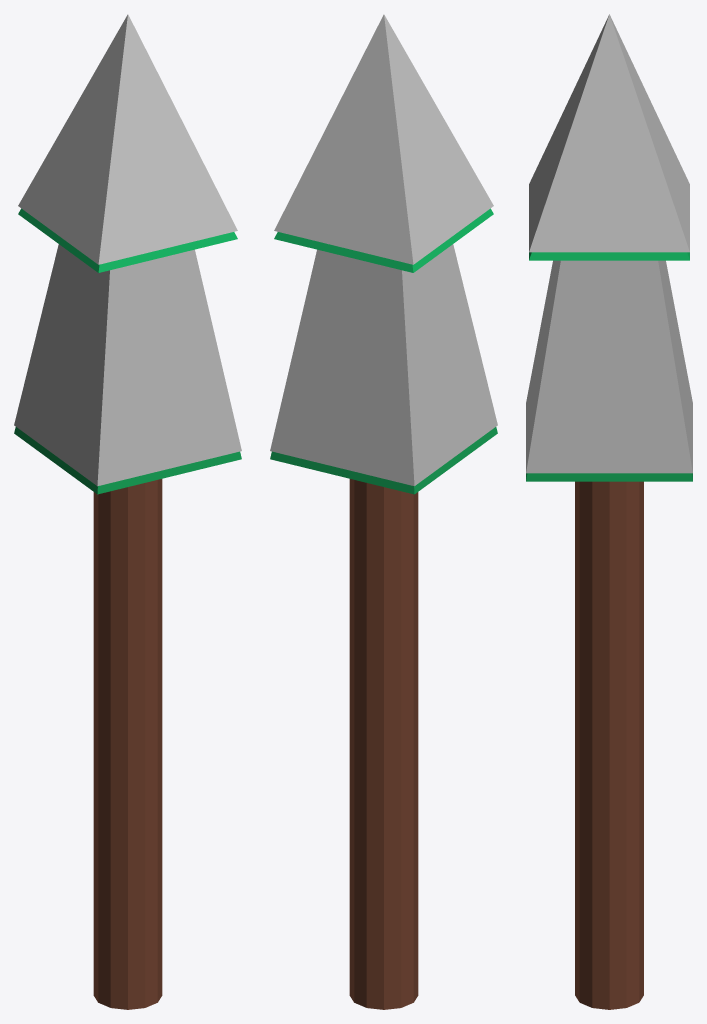
Rendered from Tree_16_winter_gradient_green_vc.fbx.
3 views of the same model, side by side, from view 1: azimuth 30°, elevation 25°; view 2: azimuth 150°, elevation 25°; view 3: azimuth 270°, elevation 25° (orthographic).
Parts seen in each view (by area): view 1: Tree_16_winter_gradient_green_vc; view 2: Tree_16_winter_gradient_green_vc; view 3: Tree_16_winter_gradient_green_vc.
Boxes of the visible parts, box(x1,y1,x2,y2) form: Tree_16_winter_gradient_green_vc: box(14, 14, 241, 1009); Tree_16_winter_gradient_green_vc: box(270, 14, 497, 1009); Tree_16_winter_gradient_green_vc: box(526, 14, 692, 1009).
Size of the model in its own units: 53.67 by 348 by 53.67.
